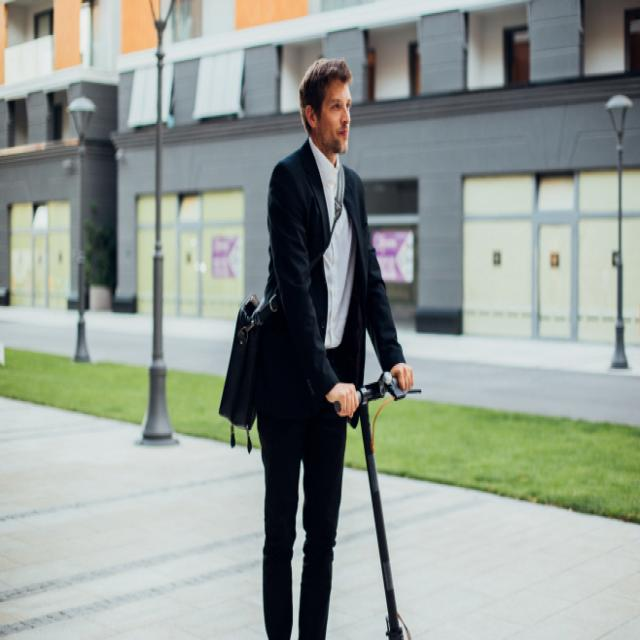non-helmet: (187, 33, 437, 640)
